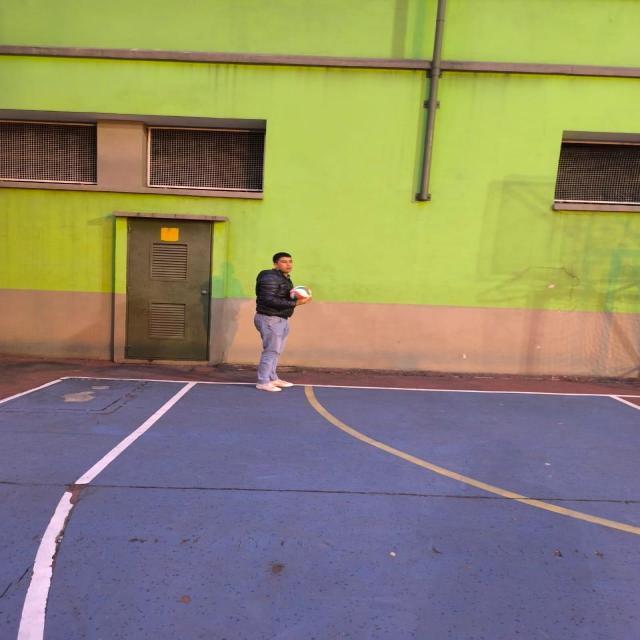volleyball: (290, 285, 312, 301)
